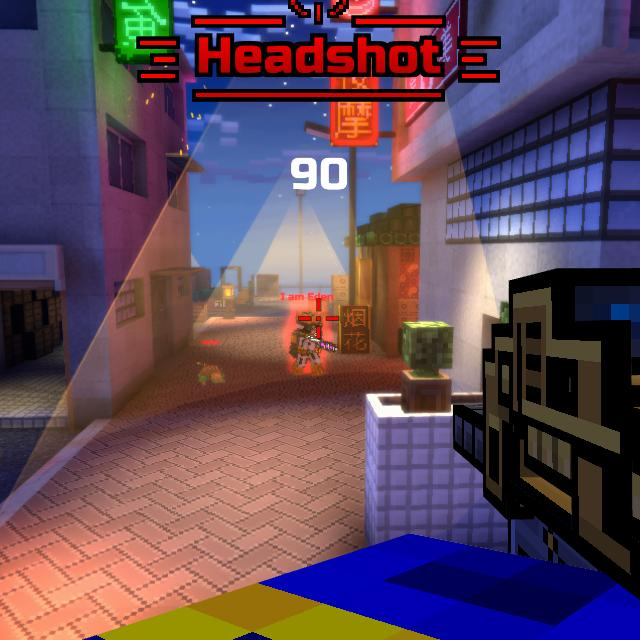Enemy: (288, 311, 331, 377)
